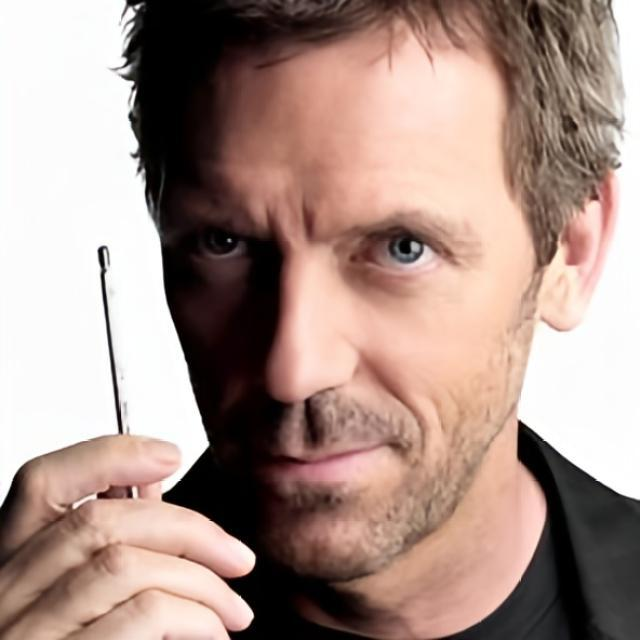content: (143, 32, 531, 580)
